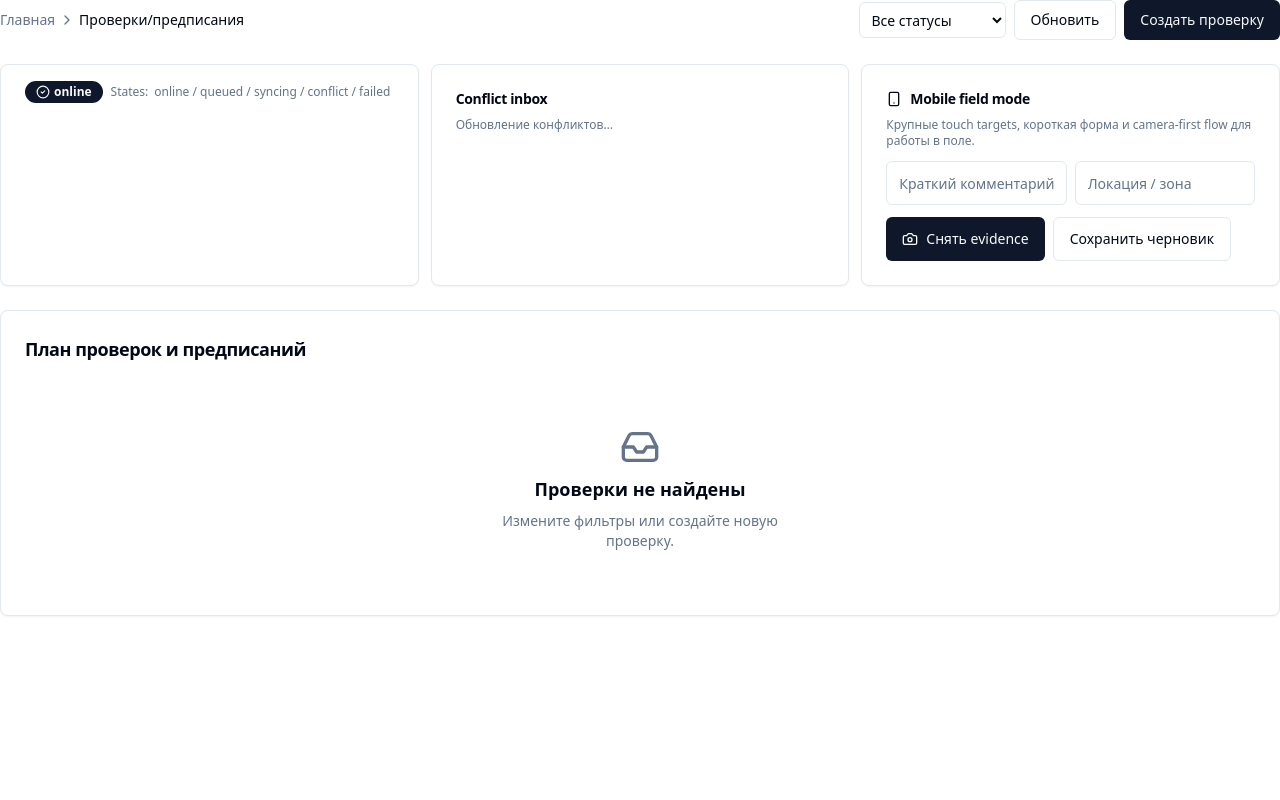
Scenario: InspectionsPage › opens create dialog when button clicked
Click the button "Создать проверку" at x=1202, y=20, box [1124,0,1279,40]
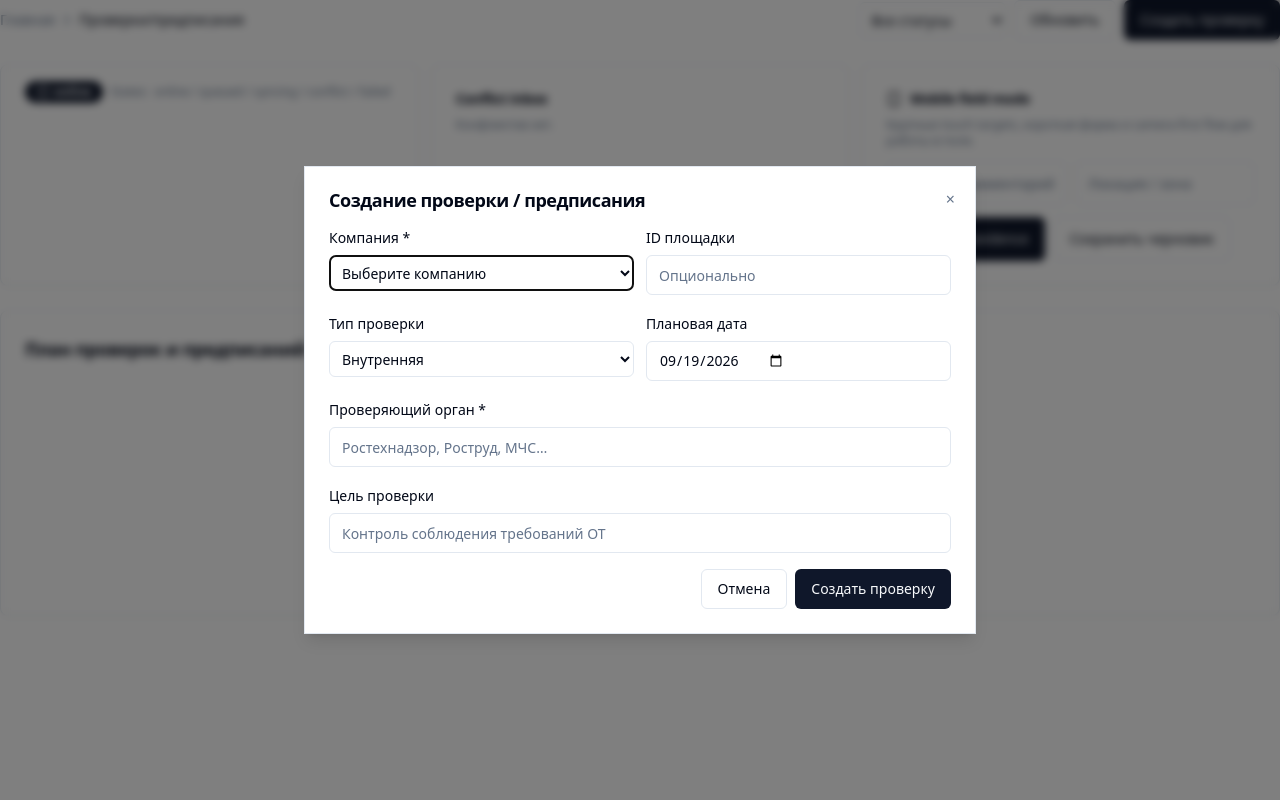
Check: the dialog is shown, box [304,166,976,634]
Check: the field labelled "Проверяющий орган *" is shown, box [329,427,951,467]
